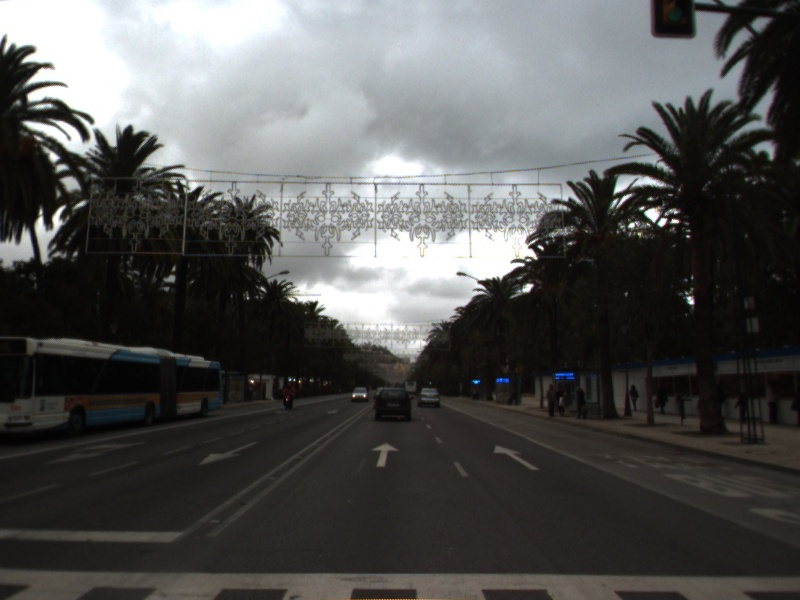STRAIGHT: (491, 443, 542, 472), (369, 440, 402, 469)
